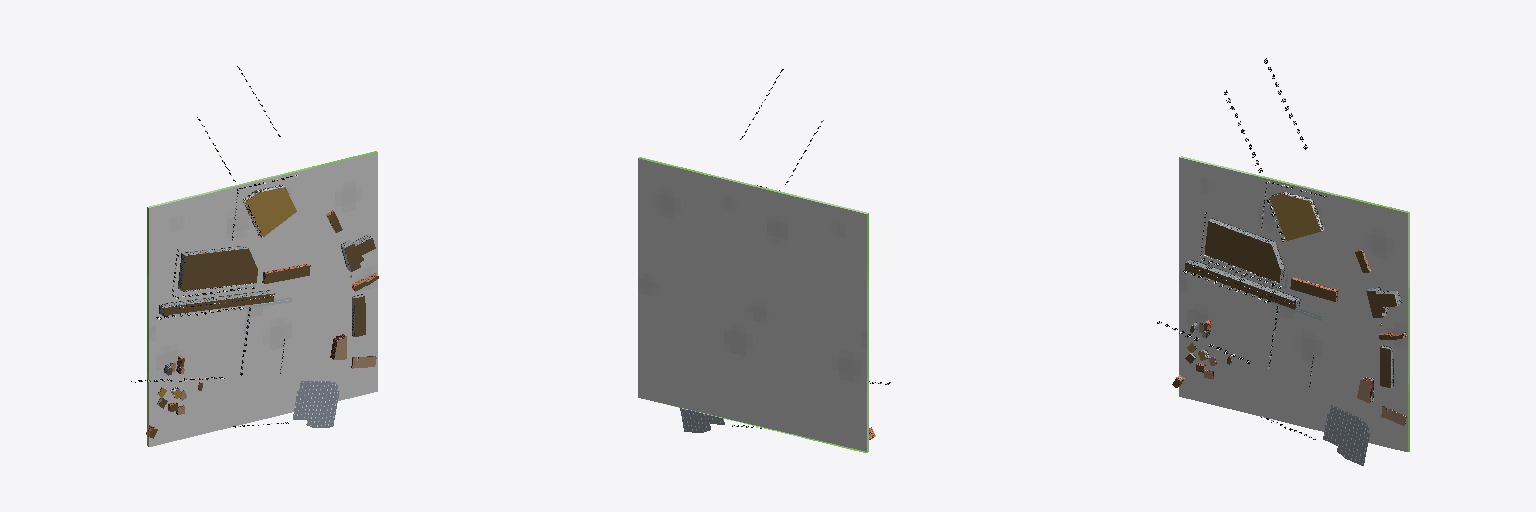
The picture shows the model from 3 angles: view 1: azimuth 30°, elevation 25°; view 2: azimuth 150°, elevation 25°; view 3: azimuth 330°, elevation 25°; orthographic projection.
Visible parts, largest first — view 1: POLYGON, BUILDING, FONT; view 2: POLYGON; view 3: POLYGON, BUILDING, FONT.
Boxes of the visible parts, x1,y1,x2,y2 form: POLYGON: [147, 151, 377, 446]; BUILDING: [146, 185, 378, 438]; FONT: [131, 66, 297, 427]; POLYGON: [638, 157, 868, 452]; POLYGON: [1179, 156, 1409, 465]; BUILDING: [1172, 192, 1406, 425]; FONT: [1157, 58, 1326, 439].
Bounding box in the file's own units: 667 × 987 × 46.29.
4 materials, 4 textured.